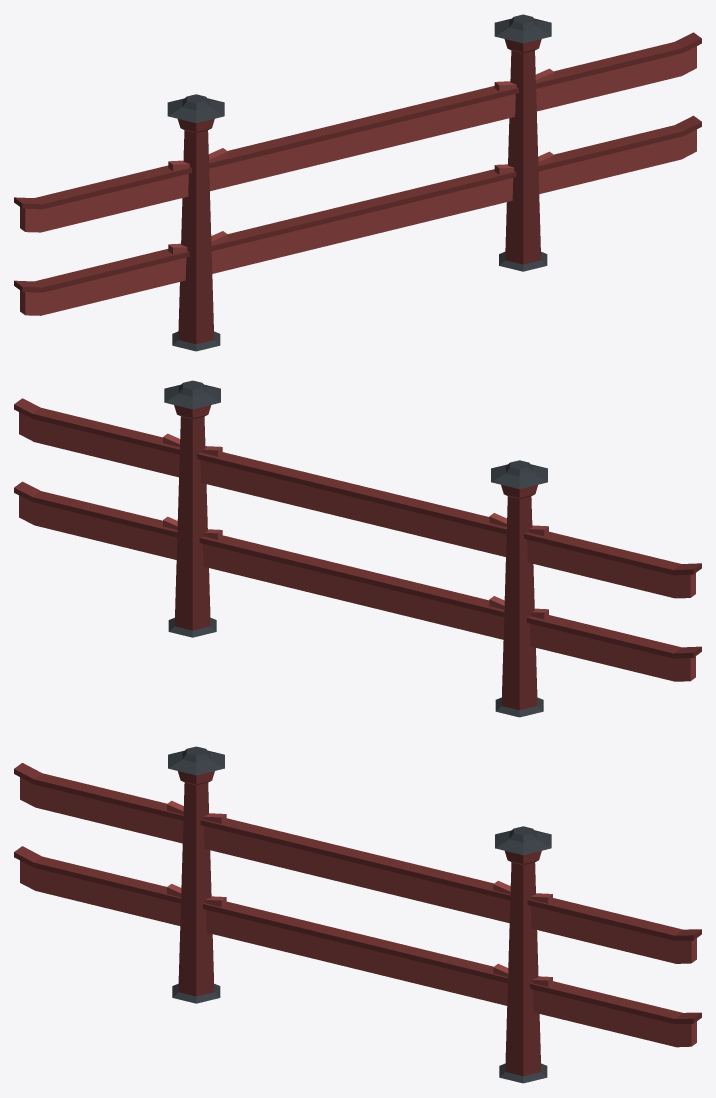
The model's file is Fence1.glb.
3 views of the same model, one above another, from view 1: azimuth 30°, elevation 25°; view 2: azimuth 150°, elevation 25°; view 3: azimuth 330°, elevation 25° (orthographic).
Parts seen in each view (by area): view 1: Cylinder.002; view 2: Cylinder.002; view 3: Cylinder.002.
Boxes of the visible parts, <box> form: Cylinder.002: <box>14,14,701,351</box>; Cylinder.002: <box>14,380,701,717</box>; Cylinder.002: <box>14,746,701,1083</box>.
Size of the model in its own units: 10.48 by 3.55 by 0.7602.
